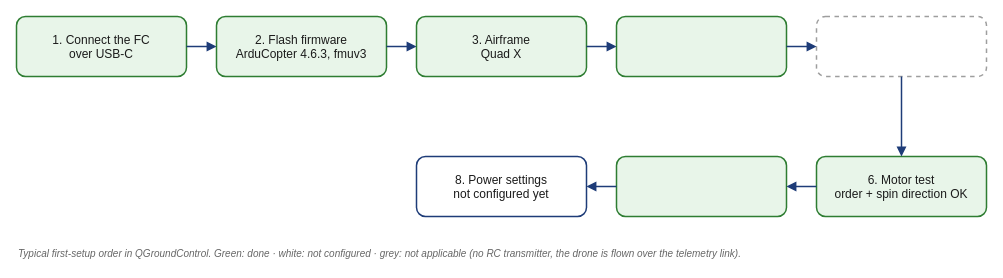
The diagram is 1003 pixels wide and 278 high, and some of its shapes have lost their labels. The centre of each missing label's shape, as x and y in pixels:
"4. Sensor calibration accel · compass · level (indoors)" belongs at point 701,46.
"5. Radio calibration n/a: no RC transmitter" belongs at point 901,46.
"7. ESC calibration done (propellers OFF)" belongs at point 701,186.
